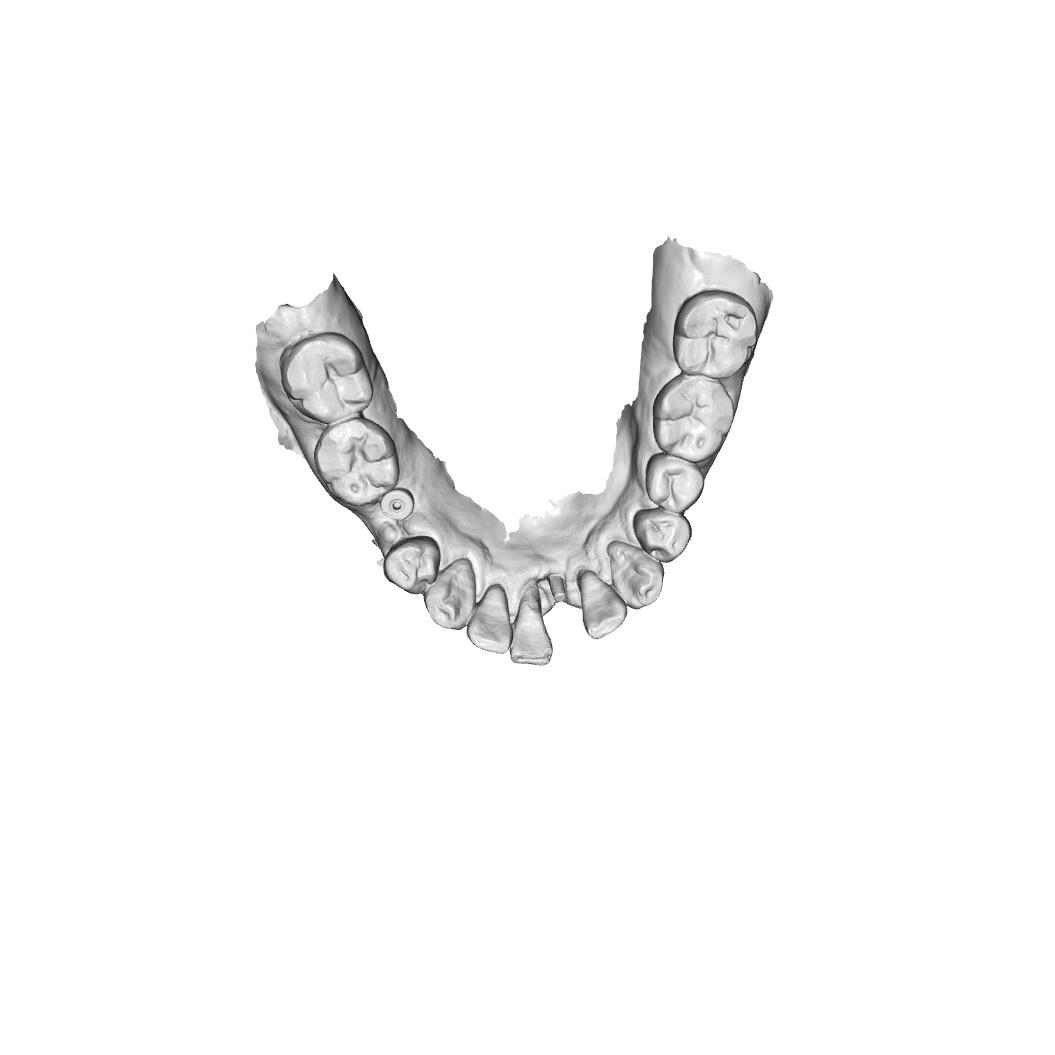abutment: (548, 567, 573, 612)
canine: (608, 540, 665, 611), (424, 558, 478, 632)
implant: (379, 486, 419, 523)
incisor: (511, 587, 551, 666), (467, 591, 511, 657), (583, 577, 629, 639)
molar: (279, 331, 370, 423), (312, 422, 401, 509), (673, 288, 757, 380), (654, 373, 731, 461)
premolar: (636, 506, 694, 560), (649, 458, 704, 510), (384, 542, 438, 591)
